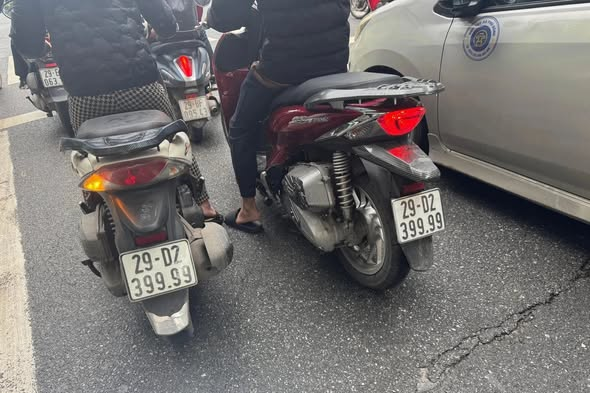bien_so: (115, 233, 203, 306), (389, 185, 447, 247), (176, 94, 213, 125), (32, 63, 72, 91)
